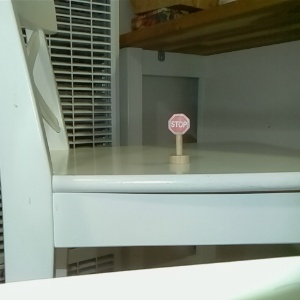stop sign: (166, 112, 192, 165)
